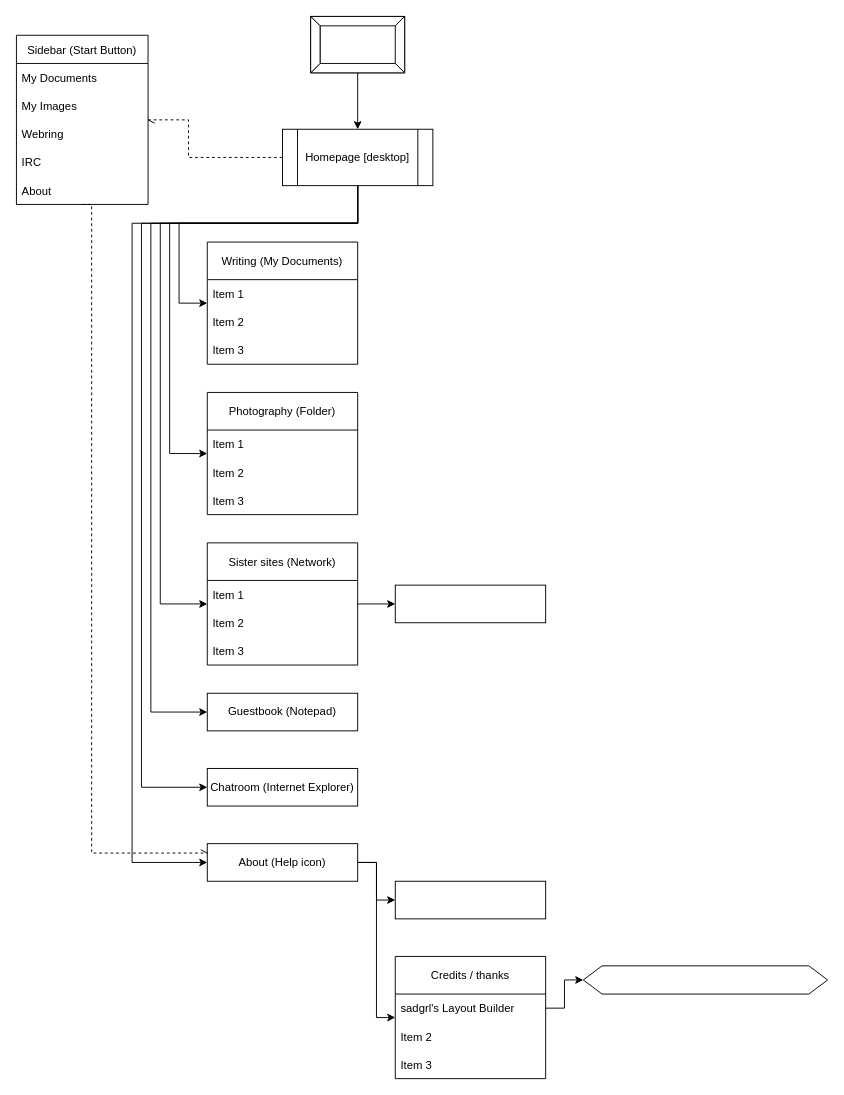
The diagram is 844 pixels wide and 1095 high, and some of its shapes have lost their labels. The shapes that lost their labels are listed below. From the top down, each one's centre as x and y in pixels, then its label:
At (357,44): "DadOS".
At (470,603): "Webrings".
At (470,899): "Bio".
At (705,979): "https://sadgrl.online/projects/layout-builder/".
